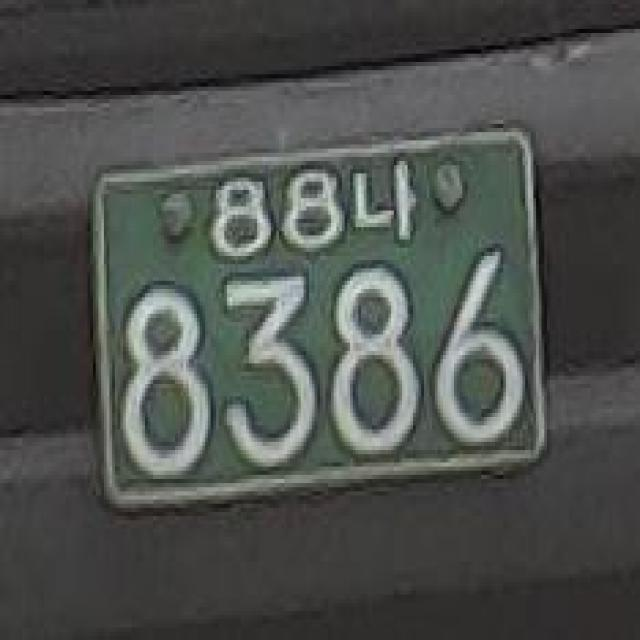illegal_plate: (68, 114, 564, 533)
